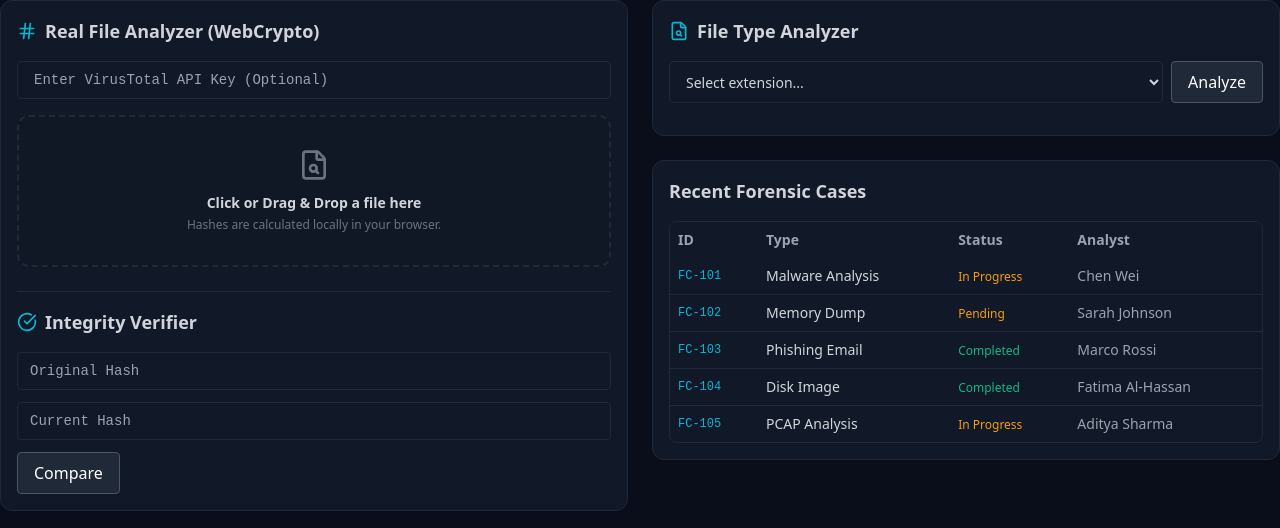
Test: ForensicsWorkbench Component › should display mismatching integrity warning on non-equal compare hashes
Type "abc" into the field with placeholder "Original Hash" at {"x": 314, "y": 371}, box [17,352,611,390]
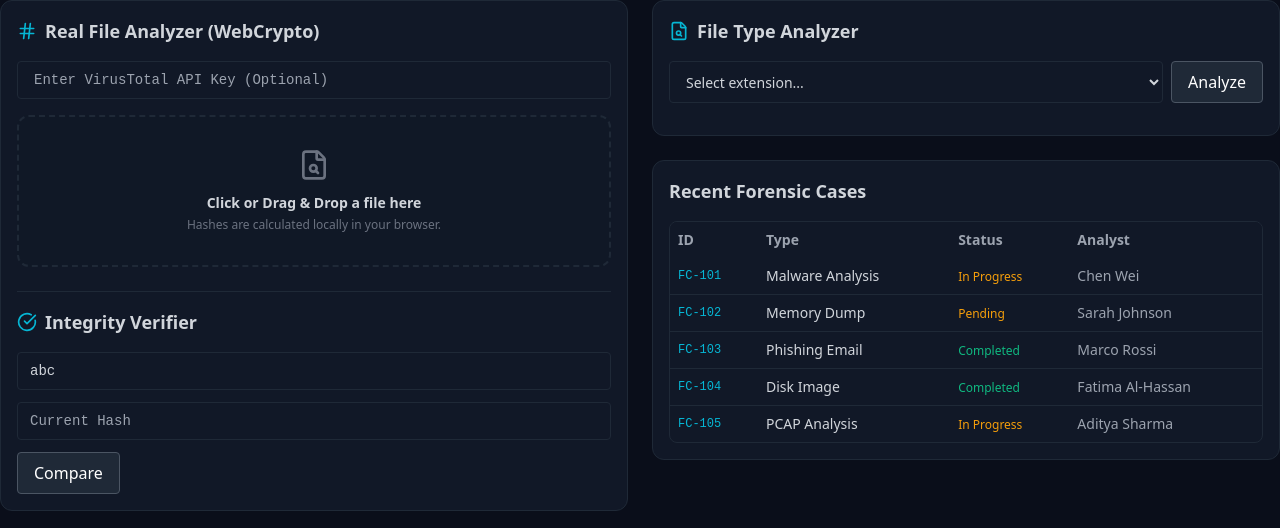
Type "xyz" into the field with placeholder "Current Hash" at {"x": 314, "y": 421}, box [17,402,611,440]
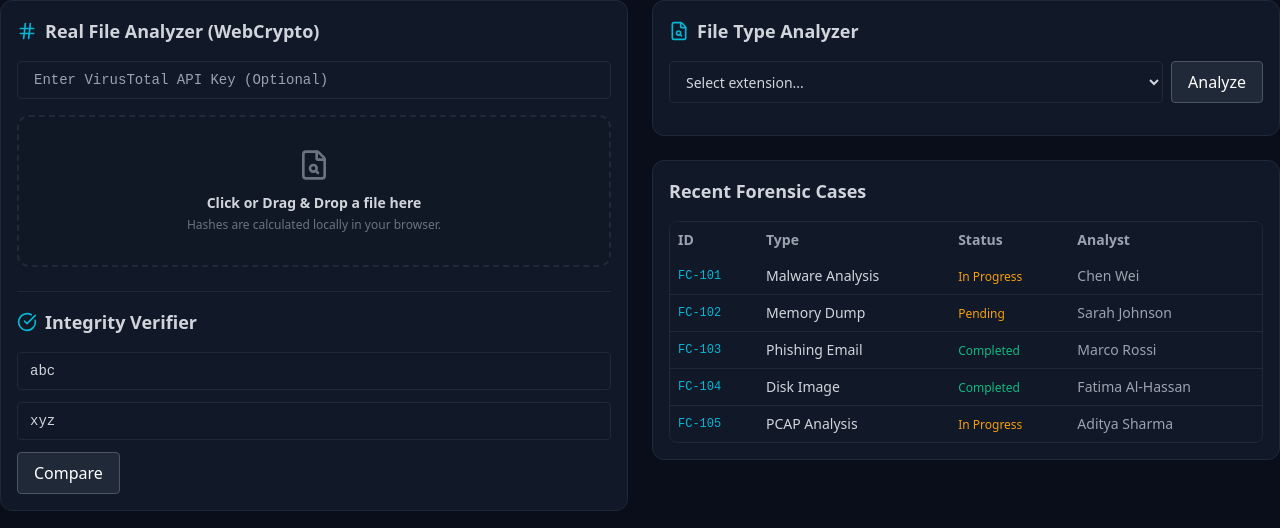
Click the button "Compare" at {"x": 68, "y": 473}, box [17,452,120,494]
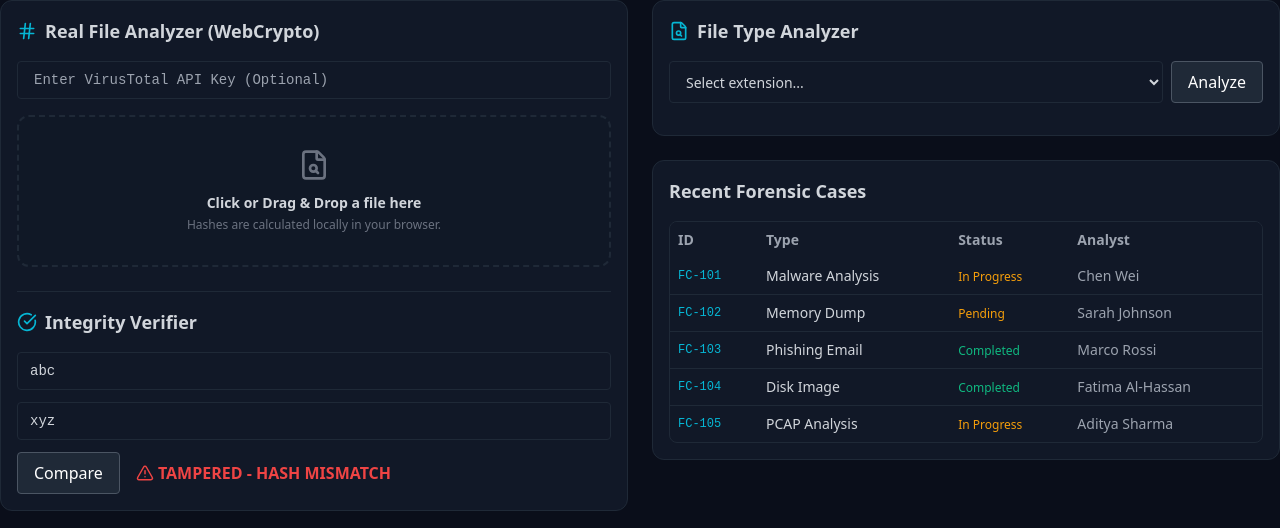
Check: the text "TAMPERED - HASH MISMATCH" is shown, box [136,461,391,485]
